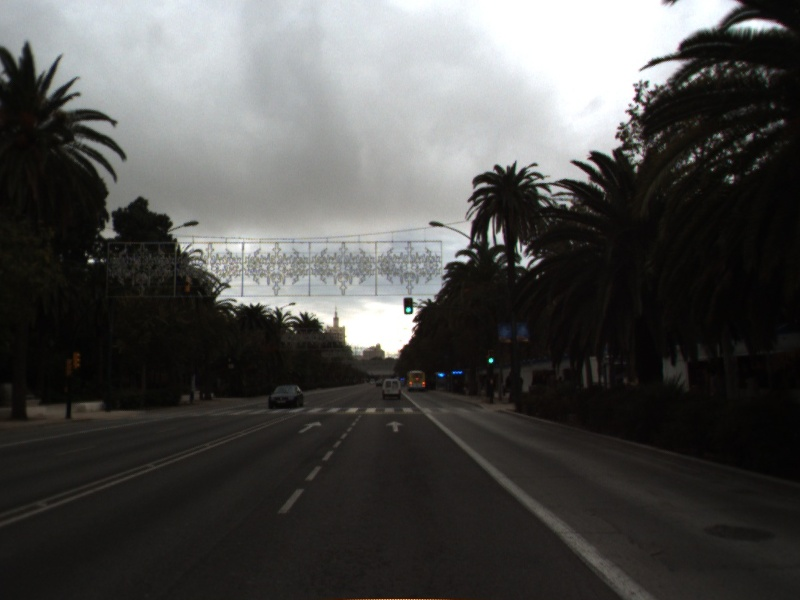STRAIGHT: (296, 419, 325, 435), (384, 419, 407, 433)
